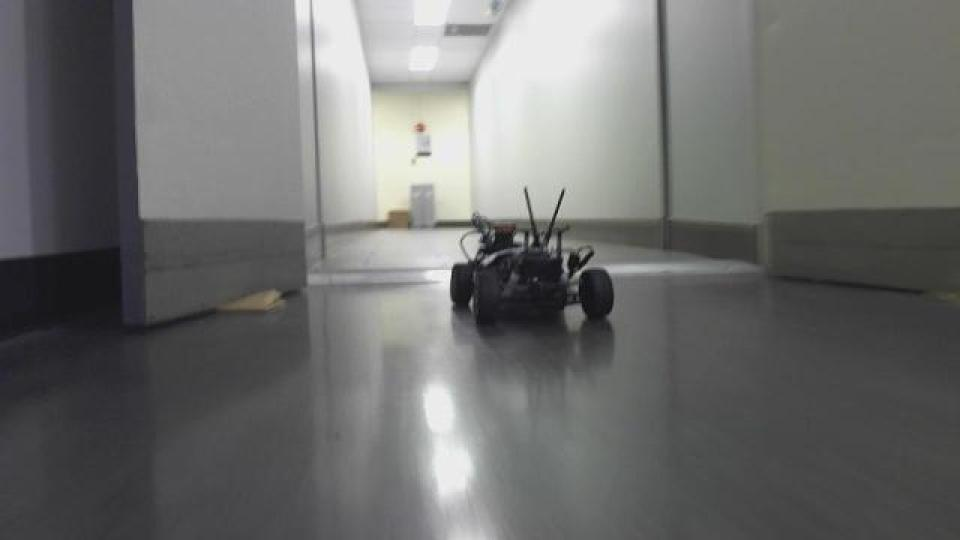car: (446, 183, 616, 329)
